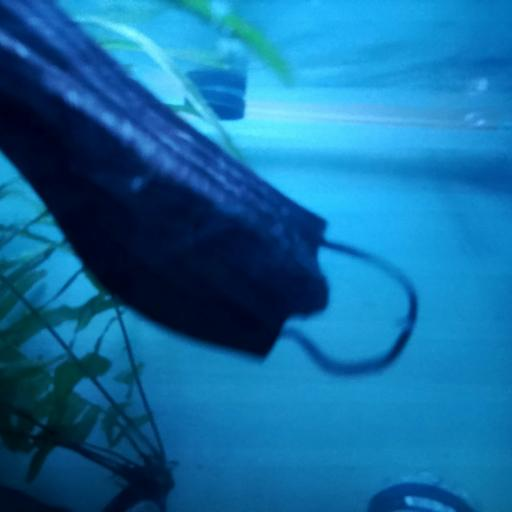bottle_cap: (358, 459, 490, 512), (186, 84, 242, 116)
mask: (1, 0, 416, 374)
